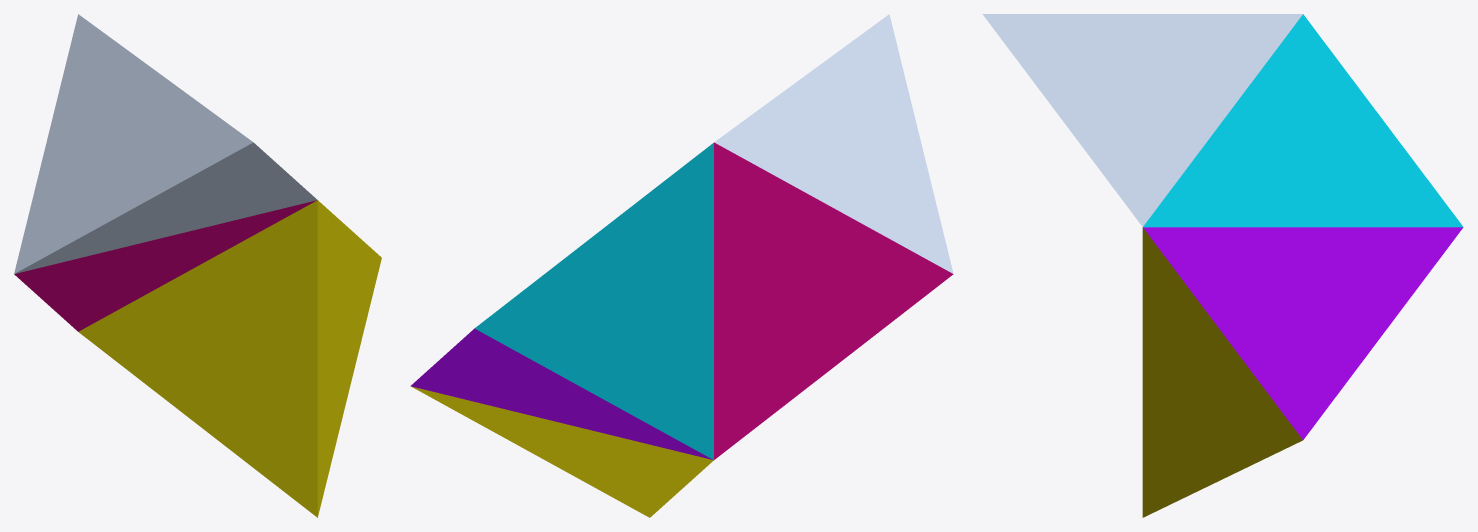
The model's file is TetragonalDisphenoidal_7.glb.
The picture shows the model from 3 angles, left to right: view 1: azimuth 30°, elevation 25°; view 2: azimuth 150°, elevation 25°; view 3: azimuth 270°, elevation 25°; orthographic projection. The views are drawn at different scales.
Size of the model in its own units: 6 by 6 by 6.
